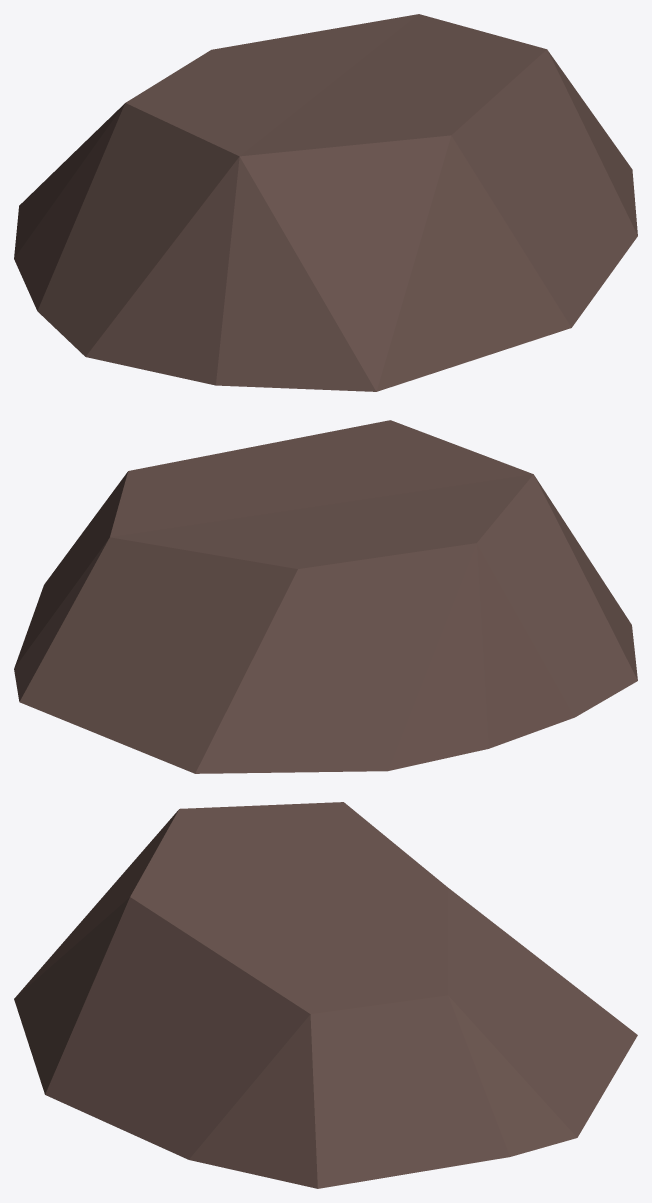
Rendered from Pebble_01.glb.
The picture shows the model from 3 angles, top to bottom: view 1: azimuth 30°, elevation 25°; view 2: azimuth 150°, elevation 25°; view 3: azimuth 270°, elevation 25°; orthographic projection. The views are drawn at different scales.
Visible parts, largest first — view 1: Pebble_01; view 2: Pebble_01; view 3: Pebble_01.
Boxes of the visible parts, x1,y1,x2,y2 form: Pebble_01: (14,14,637,391); Pebble_01: (14,420,637,773); Pebble_01: (14,802,637,1188).
Bounding box in the file's own units: 0.1916 × 0.0553 × 0.1854.
1 material, 1 textured.
